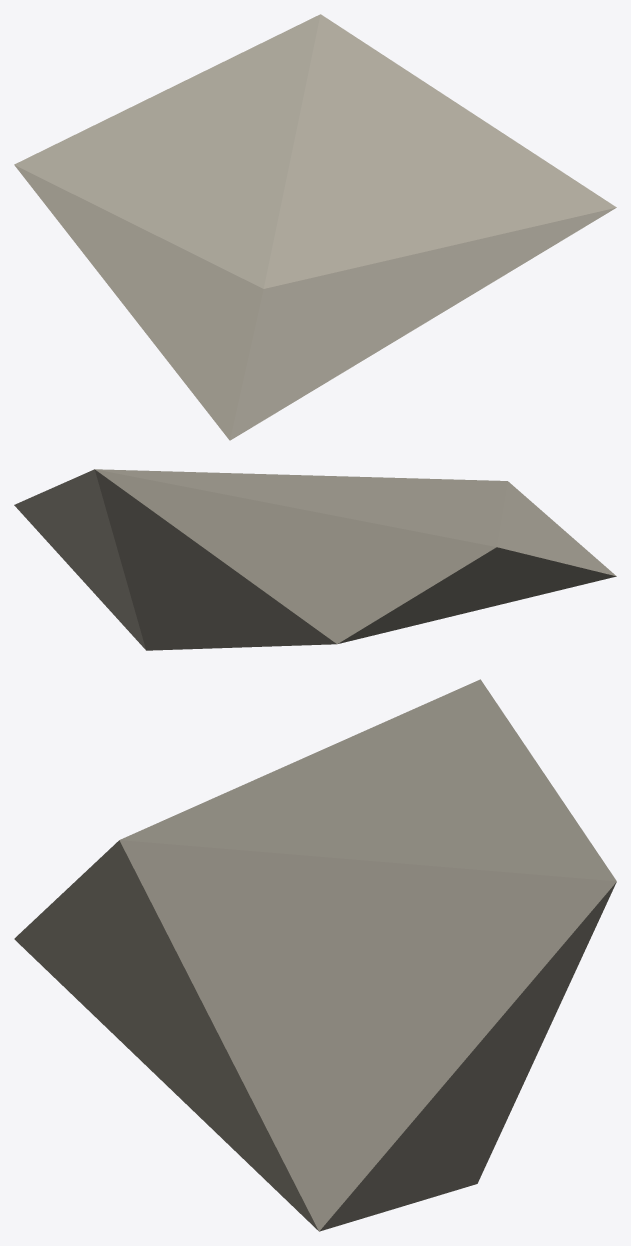
The model's file is fx_debris_a.glb.
3 views of the same model, one above another, from view 1: azimuth 30°, elevation 25°; view 2: azimuth 150°, elevation 25°; view 3: azimuth 270°, elevation 25° (orthographic). The views are drawn at different scales.
Visible parts, largest first — view 1: fx_debris_a__mesh; view 2: fx_debris_a__mesh; view 3: fx_debris_a__mesh.
Boxes of the visible parts, box(x1,y1,x2,y2) form: fx_debris_a__mesh: box(14, 14, 616, 440); fx_debris_a__mesh: box(14, 469, 616, 650); fx_debris_a__mesh: box(14, 679, 616, 1231).
Bounding box in the file's own units: 0.26 × 0.1 × 0.18.
Materials: 1 (1 with a texture image).
